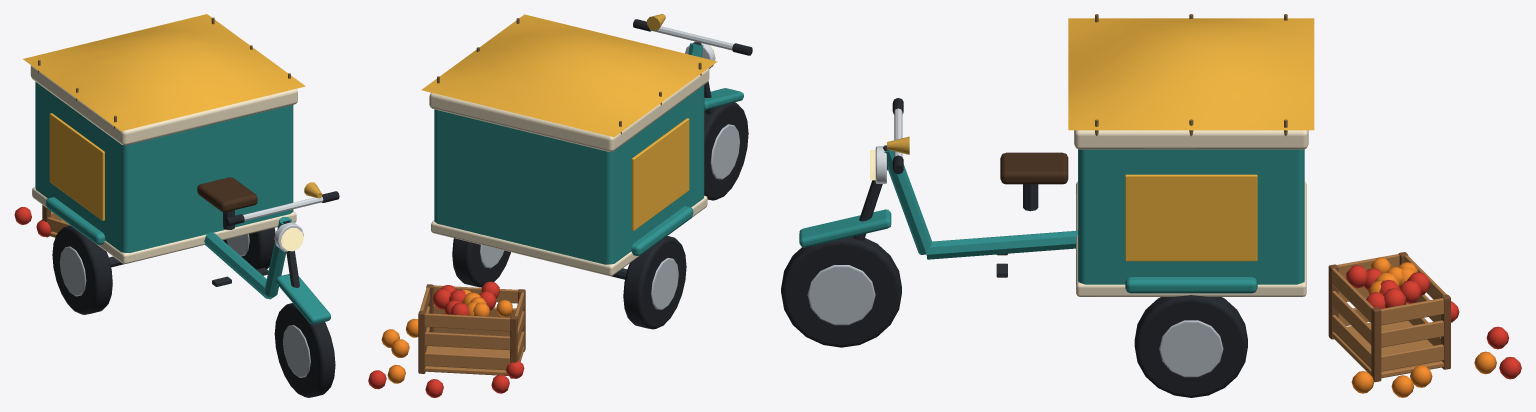
The model's file is mk_cargo_trike.glb.
3 views of the same model, side by side, from view 1: azimuth 30°, elevation 25°; view 2: azimuth 150°, elevation 25°; view 3: azimuth 270°, elevation 25° (orthographic). The views are drawn at different scales.
Parts seen in each view (by area): view 1: mk_cargo_trike_body; view 2: mk_cargo_trike_body; view 3: mk_cargo_trike_body.
Part boxes in pixels (<box>): mk_cargo_trike_body: <box>14,14,339,397</box>; mk_cargo_trike_body: <box>368,14,752,397</box>; mk_cargo_trike_body: <box>781,14,1521,397</box>.
Size of the model in its own units: 1.42 by 1.76 by 3.92.
